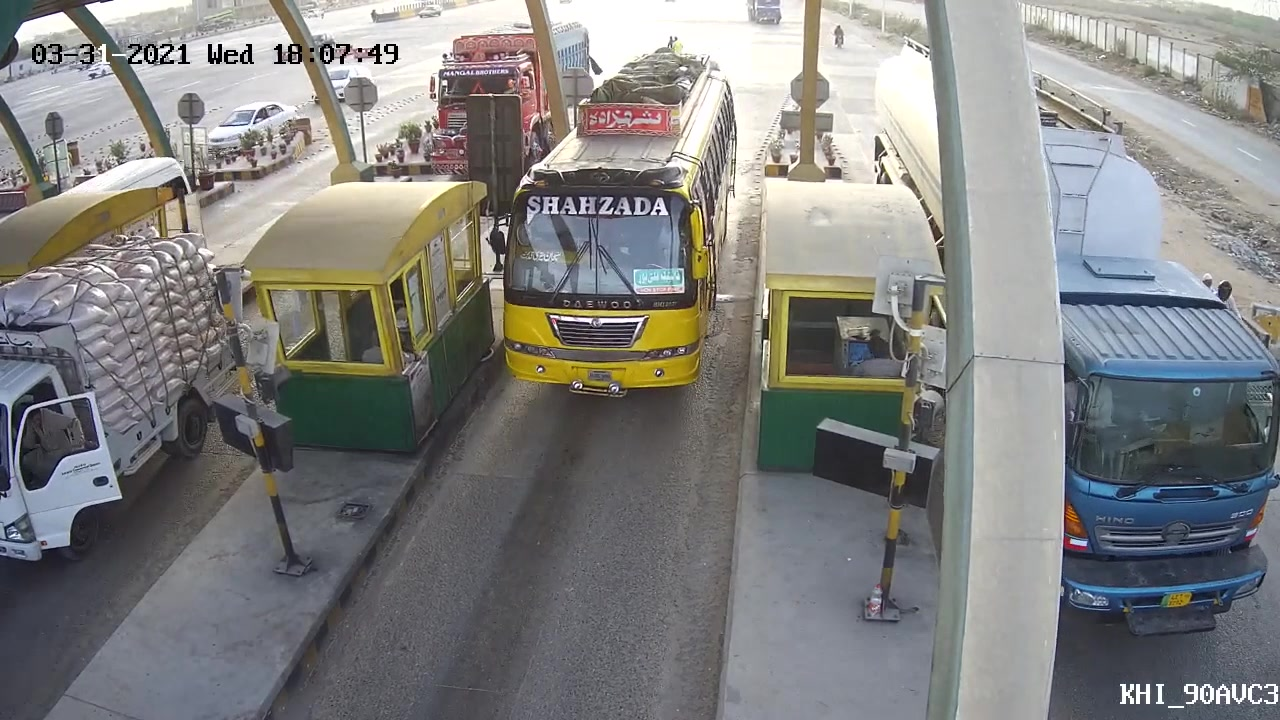F4: (492, 46, 741, 402)
